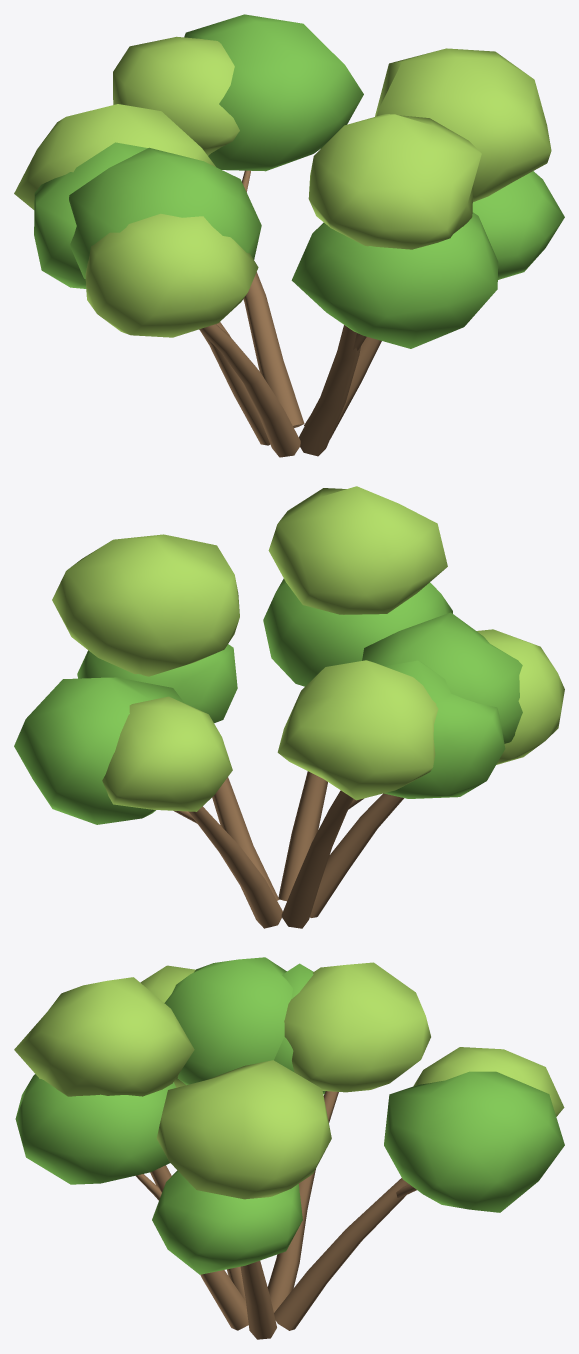
File: Bush_C_Small.fbx
3 views of the same model, one above another, from view 1: azimuth 30°, elevation 25°; view 2: azimuth 150°, elevation 25°; view 3: azimuth 270°, elevation 25° (orthographic). The views are drawn at different scales.
Visible parts, largest first — view 1: Bush_C_Small; view 2: Bush_C_Small; view 3: Bush_C_Small.
Part boxes in pixels (box(x1,y1,x2,y2)): Bush_C_Small: box(14, 14, 564, 457); Bush_C_Small: box(14, 486, 564, 928); Bush_C_Small: box(14, 957, 564, 1339).
Size of the model in its own units: 1.23 by 0.952 by 1.35.
